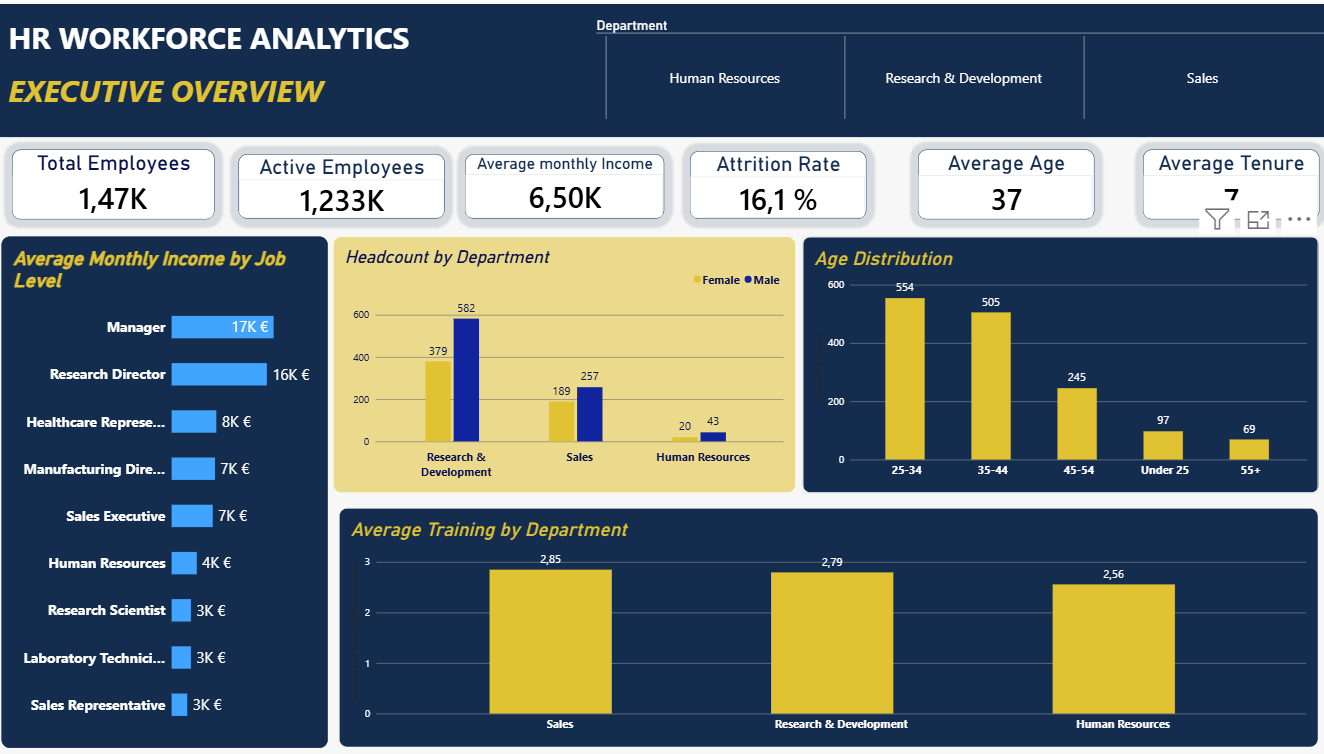

The dashboard page shown, as its layout file describes it:
{"tool":"powerbi","page":{"name":"Page 1","canvas":[1920,1080],"ordinal":0},"visuals":[{"type":"textbox","box":[9.5,0,1911.1,190.9],"z":0},{"type":"cardVisual","title":"Total Employees","fields":{"Data":["Measures (2)._Total Employees"]},"box":[25,207.5,290,100],"z":1000},{"type":"cardVisual","title":"Active Employees","fields":{"Data":["CountNonNull(Employee.EmployeeID)"]},"box":[350,215,295,92.5],"z":2000},{"type":"cardVisual","title":"Average monthly Income ","fields":{"Data":["Avg(Employee.MonthlyIncome)"]},"box":[675,215,285,92.5],"z":3000},{"type":"cardVisual","title":"Attrition Rate","fields":{"Data":["Measures (2).Attrition_rate"]},"box":[997.5,210,252.5,97.5],"z":4000},{"type":"cardVisual","title":"Average Age","fields":{"Data":["Avg(Employee.Age)"]},"box":[1322.5,207.5,252.5,100],"z":5000},{"type":"cardVisual","title":"Average Tenure","fields":{"Data":["Avg(Employee.YearsAtCompany)"]},"box":[1645,207.5,252.5,100],"z":6000},{"type":"columnChart","title":"Age Distribution","fields":{"Category":["Employee.Age Group"],"Y":["Measures (2)._Total Employees"]},"box":[1157.5,332.5,740,367.5],"z":7000},{"type":"barChart","title":"Average Monthly Income by Job Level","fields":{"Category":["Employee.JobRole"],"Y":["Avg(Employee.MonthlyIncome)"]},"box":[10,332.5,467.5,732.5],"z":8000},{"type":"clusteredColumnChart","title":"Headcount by Department","fields":{"Category":["Employee.Department"],"Series":["Employee.Gender"],"Y":["Measures (2)._Total Employees"]},"box":[485,332.5,662.5,367.5],"z":9000},{"type":"columnChart","title":"Average Training  by Department","fields":{"Category":["Employee.Department"],"Y":["Avg(Employee.TrainingTimesLastYear)"]},"box":[495,722.5,1402.5,342.5],"z":10000},{"type":"slicer","fields":{"Values":["Employee.Department"]},"box":[855,20,1065,147.5],"z":10001}]}

Visuals, with their boxes in screenshot pixels (x1, y1, x2, y2), scaled from the page's 1920x1080 canvas onto the 1324x754 screenshot:
textbox: left=7, top=0, right=1323, bottom=133
"Total Employees" cardVisual: left=17, top=145, right=217, bottom=215
"Active Employees" cardVisual: left=241, top=150, right=445, bottom=215
"Average monthly Income " cardVisual: left=465, top=150, right=662, bottom=215
"Attrition Rate" cardVisual: left=688, top=147, right=862, bottom=215
"Average Age" cardVisual: left=912, top=145, right=1086, bottom=215
"Average Tenure" cardVisual: left=1134, top=145, right=1308, bottom=215
"Age Distribution" columnChart: left=798, top=232, right=1308, bottom=489
"Average Monthly Income by Job Level" barChart: left=7, top=232, right=329, bottom=744
"Headcount by Department" clusteredColumnChart: left=334, top=232, right=791, bottom=489
"Average Training  by Department" columnChart: left=341, top=504, right=1308, bottom=744
slicer - Employee.Department: left=590, top=14, right=1323, bottom=117
